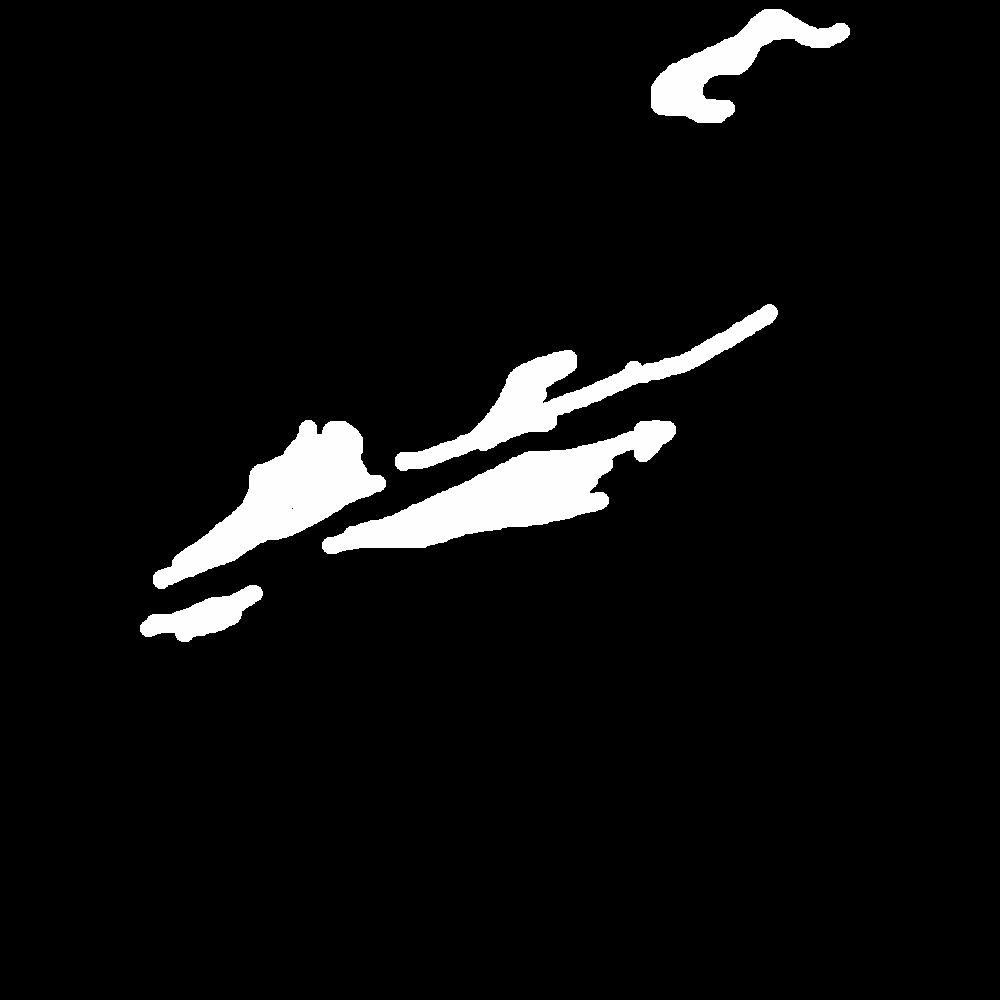illegal: (159, 414, 359, 580), (375, 443, 616, 549), (655, 5, 844, 125), (442, 355, 567, 458), (578, 355, 698, 403), (145, 591, 259, 641), (631, 419, 673, 451), (401, 453, 428, 476), (755, 303, 770, 323)
